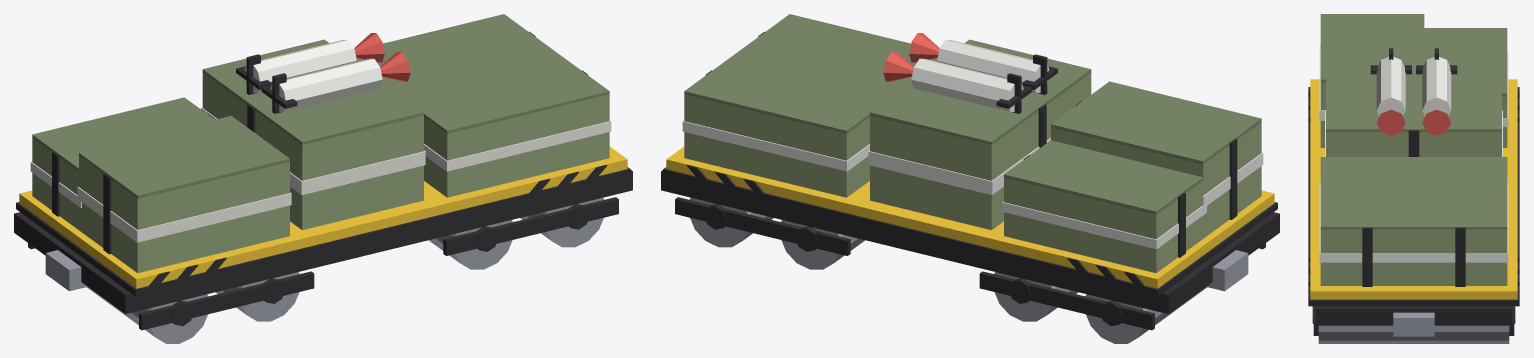
The model's file is Cargo_arms.fbx.
The picture shows the model from 3 angles, left to right: view 1: azimuth 30°, elevation 25°; view 2: azimuth 150°, elevation 25°; view 3: azimuth 270°, elevation 25°; orthographic projection. The views are drawn at different scales.
Parts seen in each view (by area): view 1: Cargo_arms; view 2: Cargo_arms; view 3: Cargo_arms.
Boxes of the visible parts, <box> form: Cargo_arms: <box>14,14,632,343</box>; Cargo_arms: <box>661,14,1279,343</box>; Cargo_arms: <box>1308,14,1519,343</box>.
Size of the model in its own units: 5.24 by 1.92 by 2.04.
